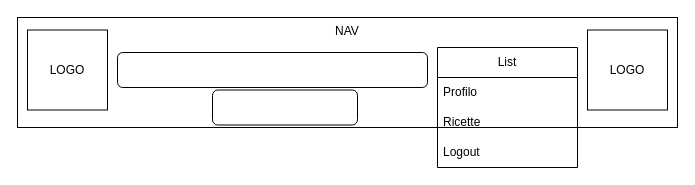
Image size: 695x185. Some labels were removed from this diagram. The centre of each missing label's shape, as x and y in pixels:
Ricerca Avanzata con Tag: pixel 285 107
Search (Autori,Ricette per nome): pixel 272 70
